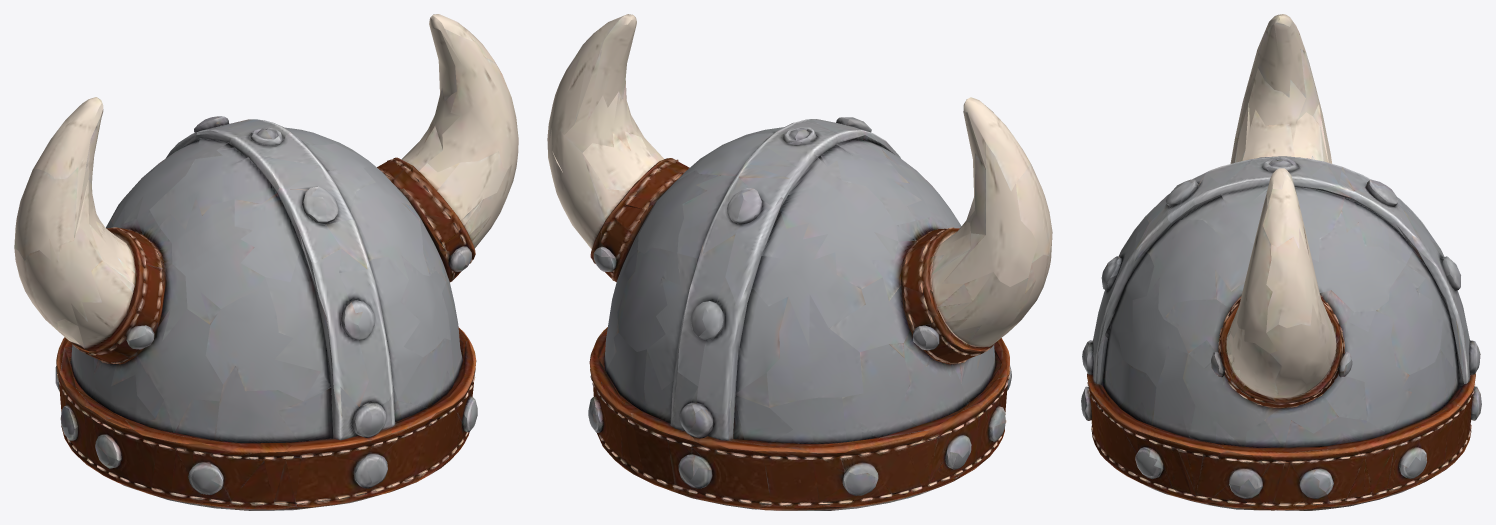
File: viking_helmet.glb
3 views of the same model, side by side, from view 1: azimuth 30°, elevation 25°; view 2: azimuth 150°, elevation 25°; view 3: azimuth 270°, elevation 25° (orthographic). The views are drawn at different scales.
Size of the model in its own units: 1.9 by 1.37 by 1.46.
Materials: 1 (1 with a texture image).
